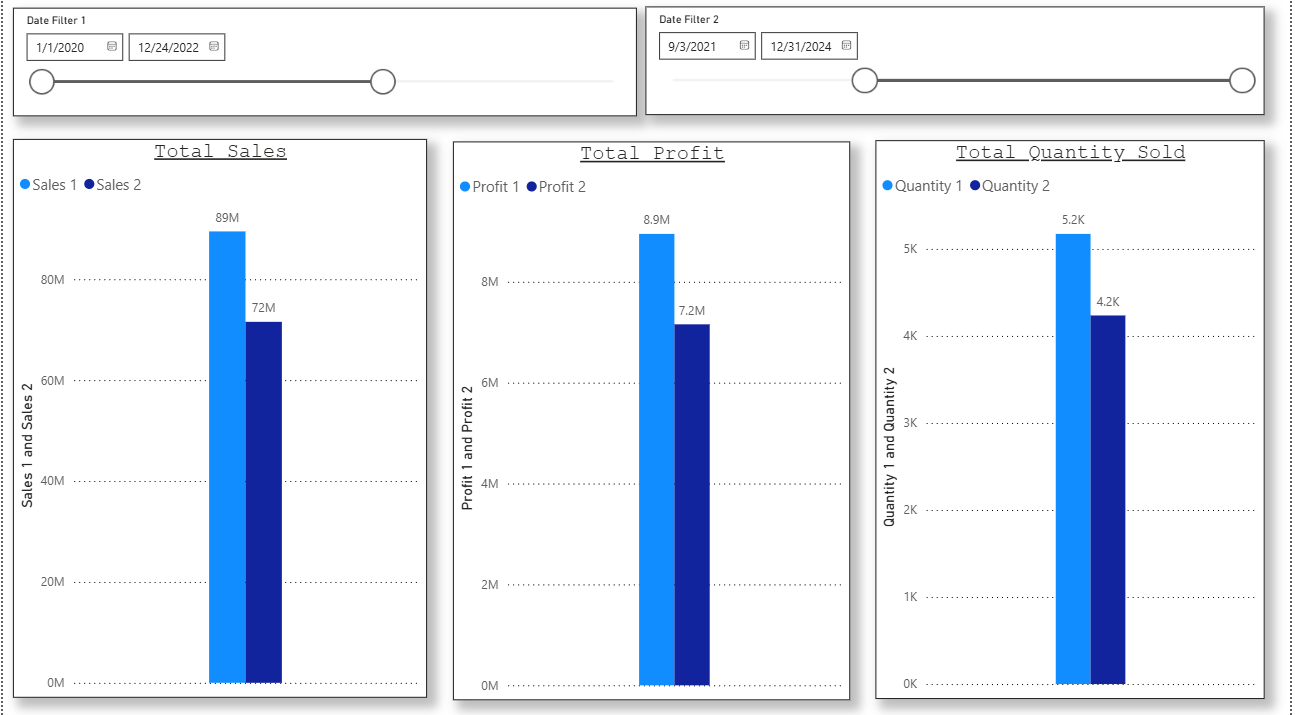

Layout of this report page (visuals, bound fields, positions):
{"tool":"powerbi","page":{"name":"Comparison Sales/Profit/Quantity 0","canvas":[1280,720],"ordinal":2},"visuals":[{"type":"slicer","fields":{"Values":["Date Table 1.Date"]},"box":[10,13.7,620.7,108.2],"z":0},{"type":"slicer","fields":{"Values":["Date Table 2.Date"]},"box":[639.4,12.4,615.8,108.2],"z":1000},{"type":"clusteredColumnChart","title":"Total Sales","fields":{"Y":["Sum(Fact Table.Net Sales)","Date Table 1.Sum of Net Sales"]},"box":[10,144.3,411.8,556],"z":2000},{"type":"clusteredColumnChart","title":"Total Profit","fields":{"Y":["Sum(Fact Table.Profit)","Measures Table.Total Profit"]},"box":[447.8,146.8,395.6,556],"z":3000},{"type":"clusteredColumnChart","title":"Total Quantity Sold","fields":{"Y":["Sum(Fact Table.Units Sold)","Measures Table.Total Quantity"]},"box":[868.3,145.5,386.9,556],"z":4000}]}

Visuals, with their boxes in screenshot pixels (x1, y1, x2, y2), scaled from the page's 1280x720 canvas onto the 1295x715 screenshot:
slicer - Date Table 1.Date: 10/14/638/121
slicer - Date Table 2.Date: 647/12/1270/120
"Total Sales" clusteredColumnChart: 10/143/427/695
"Total Profit" clusteredColumnChart: 453/146/853/698
"Total Quantity Sold" clusteredColumnChart: 878/144/1270/697
